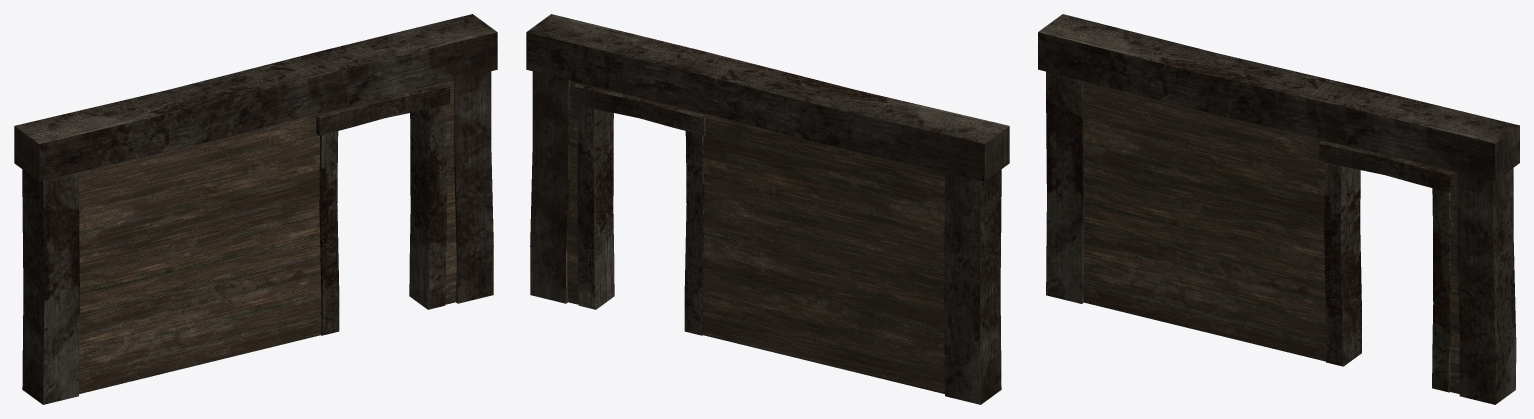
Rendered from WoodWallDoor1.fbx.
The picture shows the model from 3 angles, left to right: view 1: azimuth 30°, elevation 25°; view 2: azimuth 150°, elevation 25°; view 3: azimuth 330°, elevation 25°; orthographic projection.
Parts seen in each view (by area): view 1: Wood Wall Door 4m; view 2: Wood Wall Door 4m; view 3: Wood Wall Door 4m.
Boxes of the visible parts, x1,y1,x2,y2 form: Wood Wall Door 4m: (14,14,497,404); Wood Wall Door 4m: (526,14,1009,404); Wood Wall Door 4m: (1038,14,1519,404).
Size of the model in its own units: 432 by 238 by 40.57.
